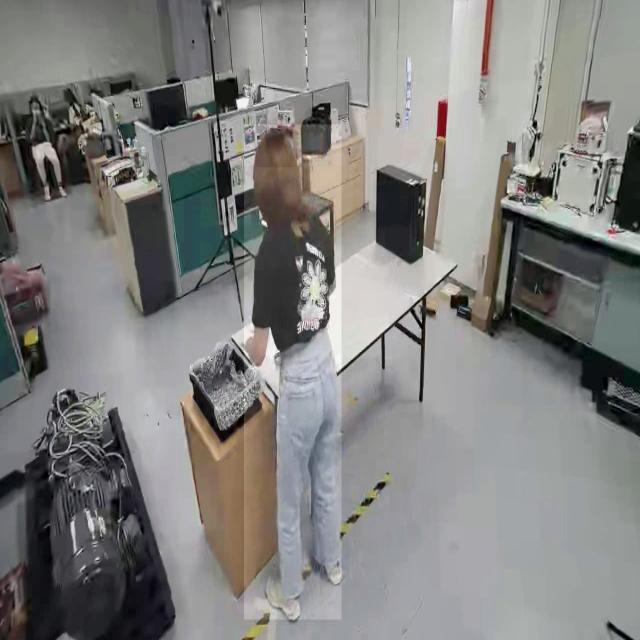head_nohelmet: (255, 125, 297, 168), (29, 94, 41, 102)
person: (244, 124, 342, 620)
shoes: (264, 574, 304, 628), (313, 540, 347, 593)
